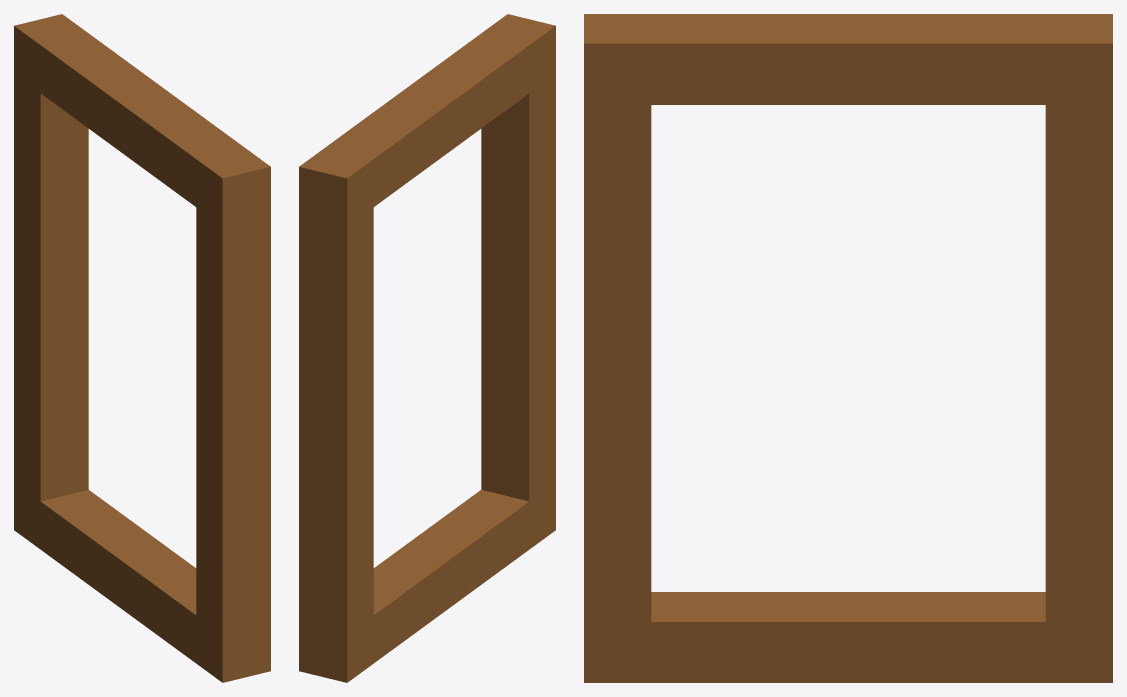
The model's file is modularBuildings_089.obj.
3 views of the same model, side by side, from view 1: azimuth 30°, elevation 25°; view 2: azimuth 150°, elevation 25°; view 3: azimuth 270°, elevation 25° (orthographic). The views are drawn at different scales.
Parts seen in each view (by area): view 1: Mesh1 Group1 Model; view 2: Mesh1 Group1 Model; view 3: Mesh1 Group1 Model.
Boxes of the visible parts, x1,y1,x2,y2 form: Mesh1 Group1 Model: (14,14,270,682); Mesh1 Group1 Model: (299,14,555,682); Mesh1 Group1 Model: (584,14,1112,682).
Size of the model in its own units: 0.05 by 0.5 by 0.375.
